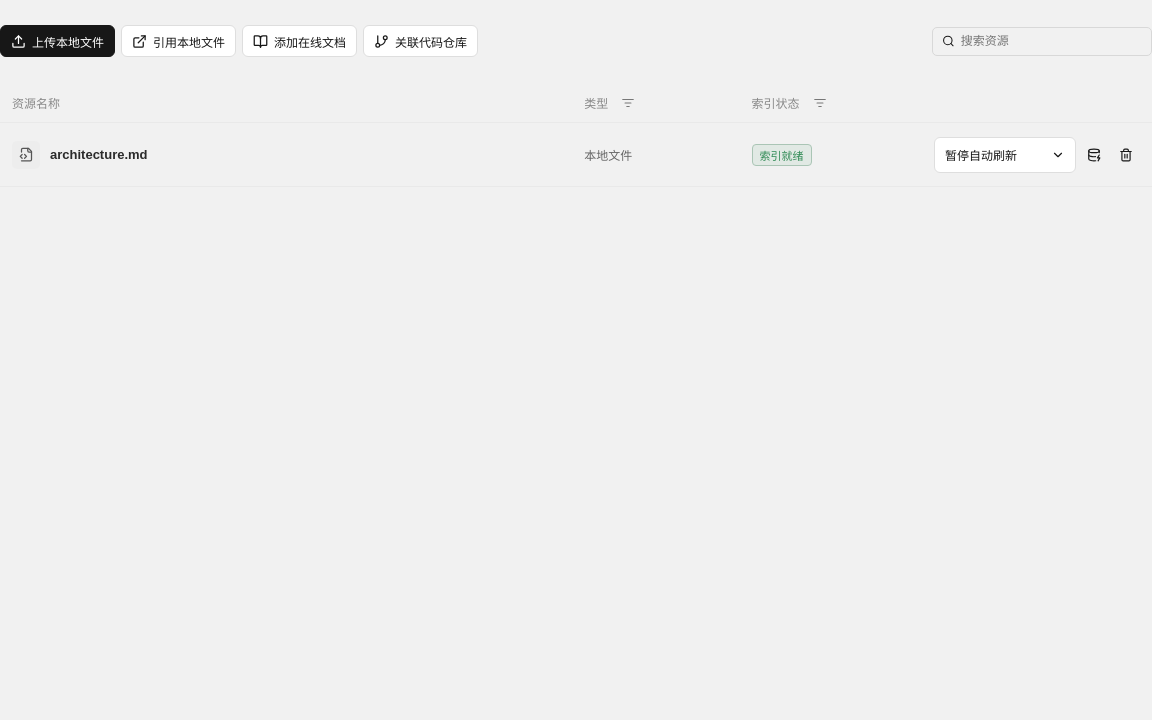
Test: SpaceKnowledgePanel › publishes a safe toast when opening a local file from details fails
Click the button with aria-label "打开 architecture.md" at (99, 154), box [12, 140, 574, 168]
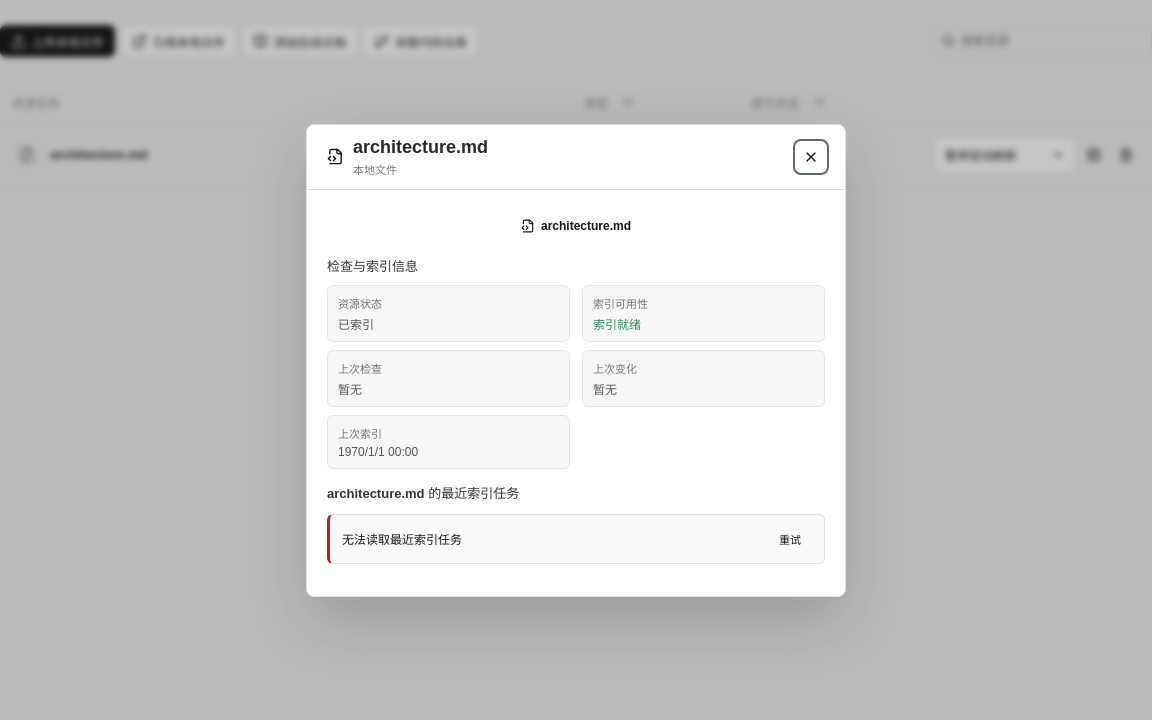
Click the button with aria-label "在工作区打开 architecture.md" at (576, 226), box [327, 210, 825, 242]
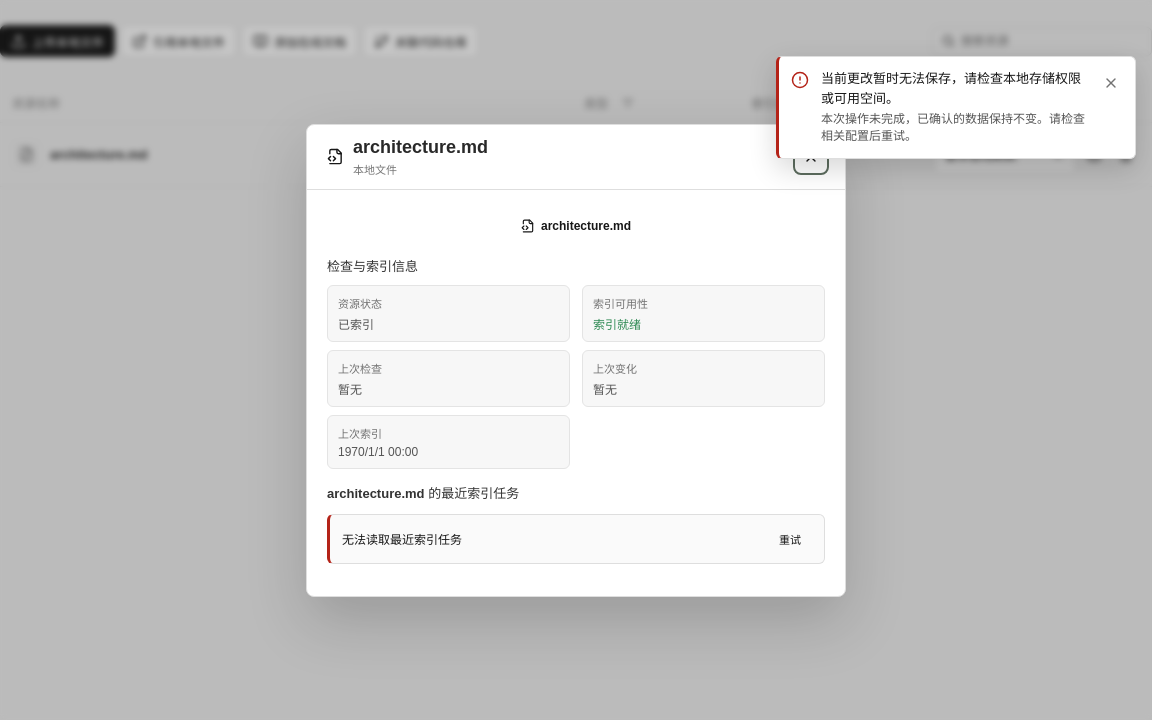
Result: the text "当前更改暂时无法保存，请检查本地存储权限或可用空间。" is shown at [821, 69, 1087, 108]
